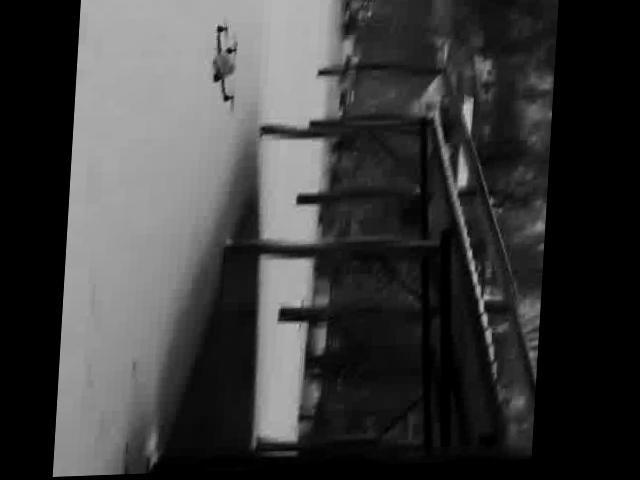drone: (209, 20, 244, 118)
